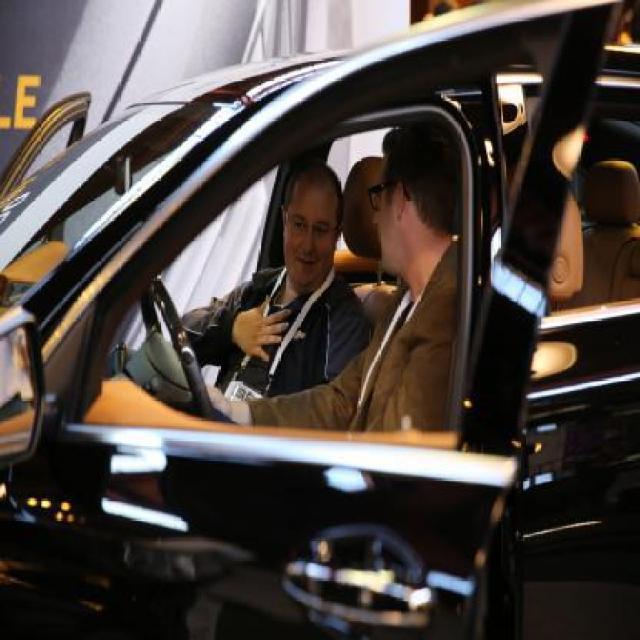Person: (204, 122, 458, 432)
